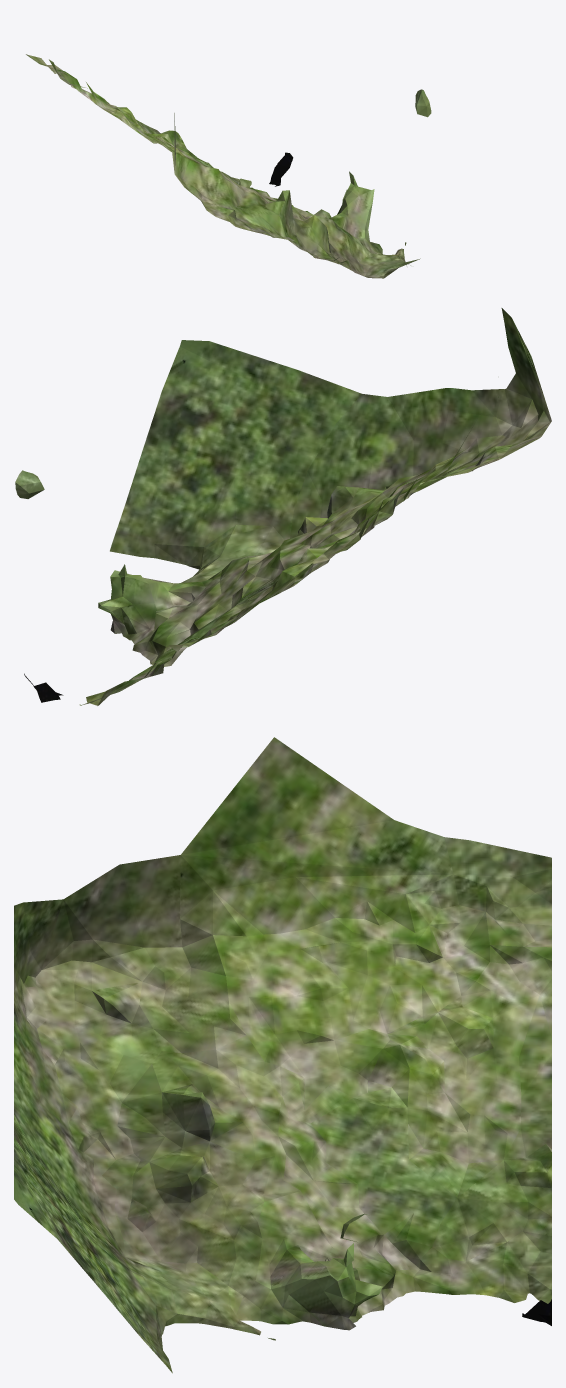
3 renders of one model, top to bottom at view 1: azimuth 30°, elevation 25°; view 2: azimuth 150°, elevation 25°; view 3: azimuth 270°, elevation 25°, orthographic. The views are drawn at different scales.
Bounding box in the file's own units: 26.11 × 21.93 × 26.11.
Materials: 3 (3 with a texture image).
